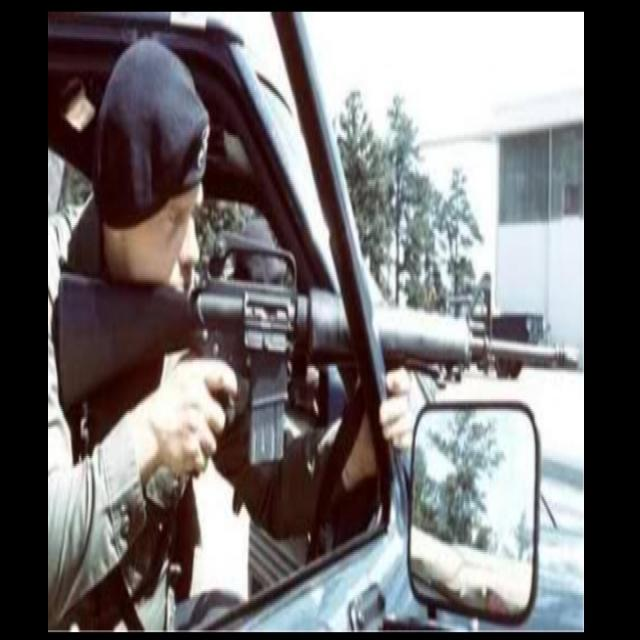m16: (51, 207, 578, 509)
